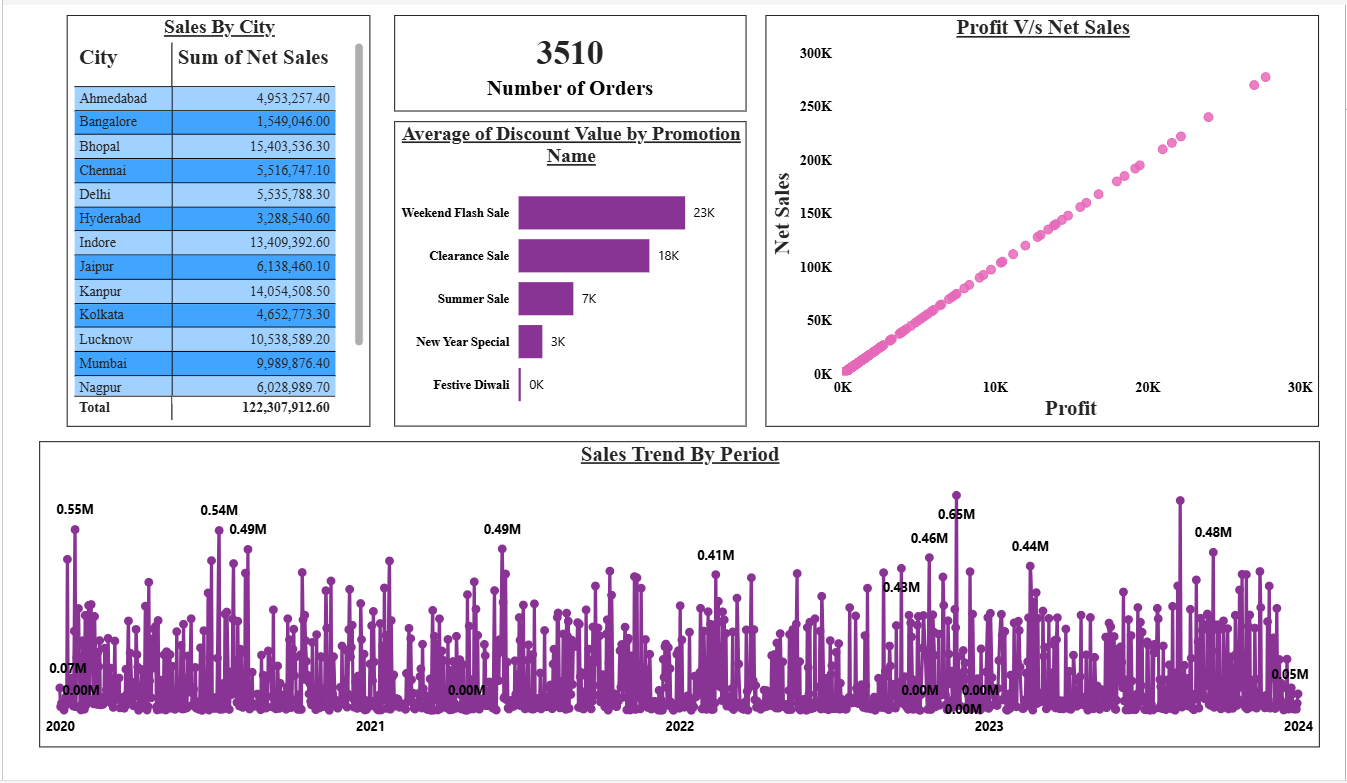

What the dashboard file says about the page in this screenshot:
{"tool":"powerbi","page":{"name":"Overview","canvas":[1280,720],"ordinal":0},"visuals":[{"type":"lineChart","title":"Sales Trend By Period","fields":{"Y":["Sum(Fact Table.Net Sales)"],"Category":["Fact Table.Date (dd/mm/yyyy).Variation.Date Hierarchy.Year"]},"box":[34.3,415.8,1221.3,292.3],"z":0},{"type":"scatterChart","title":"Profit V/s Net Sales","fields":{"X":["Fact Table.Profit"],"Y":["Fact Table.Net Sales"]},"box":[727.3,9.6,528.3,392.5],"z":1000},{"type":"barChart","fields":{"Category":["Dim Promotion.Promotion Name"],"Y":["Avg(Fact Table.Discount Value  )"]},"box":[373.2,111.1,336.2,290.9],"z":2000},{"type":"card","fields":{"Values":["Count(Fact Table.Order ID)"]},"box":[373.2,9.6,336.2,91.9],"z":4000},{"type":"tableEx","title":"Sales By City","fields":{"Values":["Dim Customers.City","Sum(Fact Table.Net Sales)"]},"box":[60.4,9.6,289.5,392.5],"z":4001}]}

Visuals, with their boxes on the page's 1280x720 design canvas (x1, y1, x2, y2). These are canvas units, not pixel positions in the 1347x783 screenshot, which may show the page scaled, cropped or inside an application window:
"Sales Trend By Period" lineChart: (x1=34, y1=416, x2=1256, y2=708)
"Profit V/s Net Sales" scatterChart: (x1=727, y1=10, x2=1256, y2=402)
barChart - Dim Promotion.Promotion Name x Avg(Fact Table.Discount Value  ): (x1=373, y1=111, x2=709, y2=402)
card - Count(Fact Table.Order ID): (x1=373, y1=10, x2=709, y2=102)
"Sales By City" tableEx: (x1=60, y1=10, x2=350, y2=402)
